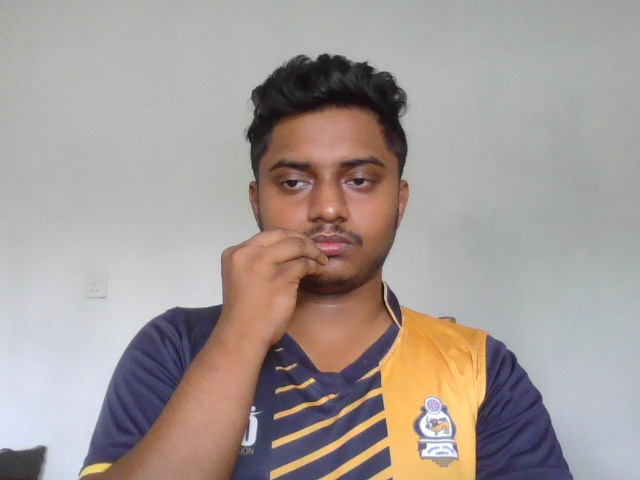Eat: (219, 224, 330, 353)
